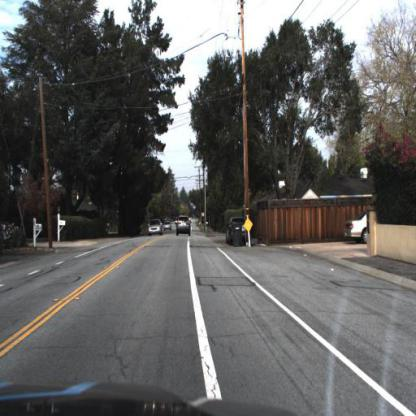car: (340, 208, 374, 246), (344, 211, 370, 244), (225, 216, 248, 246), (176, 215, 193, 238), (150, 220, 166, 235), (164, 221, 173, 234)
